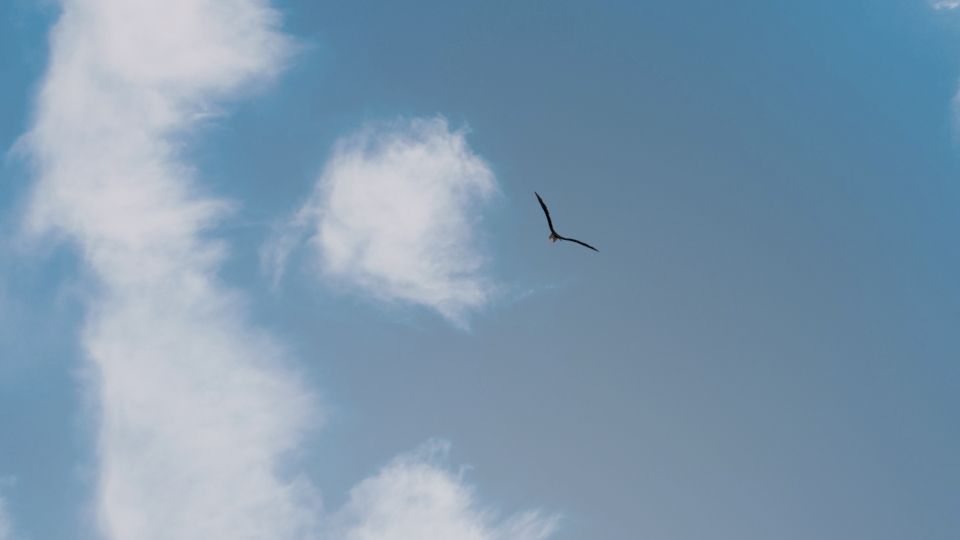bird: (532, 190, 598, 254)
